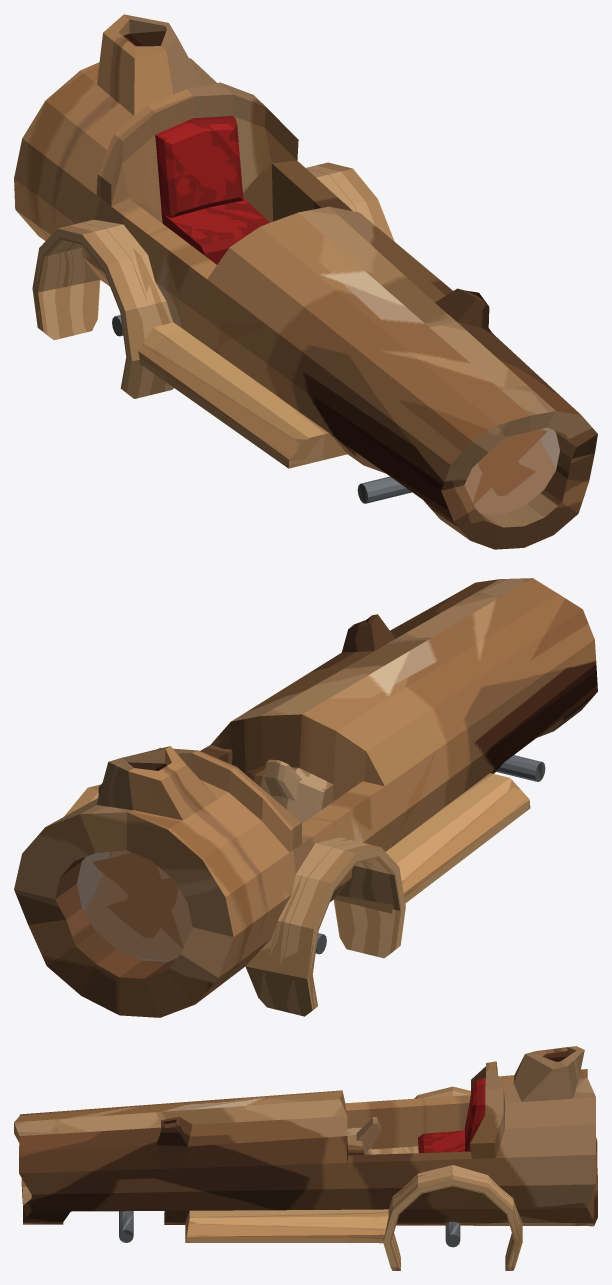
Rendered from log_car 1.fbx.
3 views of the same model, one above another, from view 1: azimuth 30°, elevation 25°; view 2: azimuth 150°, elevation 25°; view 3: azimuth 270°, elevation 25° (orthographic). The views are drawn at different scales.
Visible parts, largest first — view 1: CartBody, MudguardRight, MudguardLeft, AxleFront; view 2: CartBody, MudguardRight, AxleFront; view 3: CartBody, MudguardLeft, AxleFront, MudguardRight, AxleBack.
Boxes of the visible parts, <box> form: CartBody: <box>14,14,597,549</box>; MudguardRight: <box>32,219,173,398</box>; MudguardLeft: <box>306,162,394,241</box>; AxleFront: <box>357,476,411,503</box>; CartBody: <box>14,578,597,1017</box>; MudguardRight: <box>245,837,405,1016</box>; AxleFront: <box>496,755,545,781</box>; CartBody: <box>14,1046,597,1243</box>; MudguardLeft: <box>383,1165,522,1270</box>; AxleFront: <box>119,1211,133,1242</box>; MudguardRight: <box>414,1086,470,1098</box>; AxleBack: <box>445,1221,460,1247</box>.
Bounding box in the file's own units: 147 × 131 × 390.
Materials: 5 (5 with a texture image).
